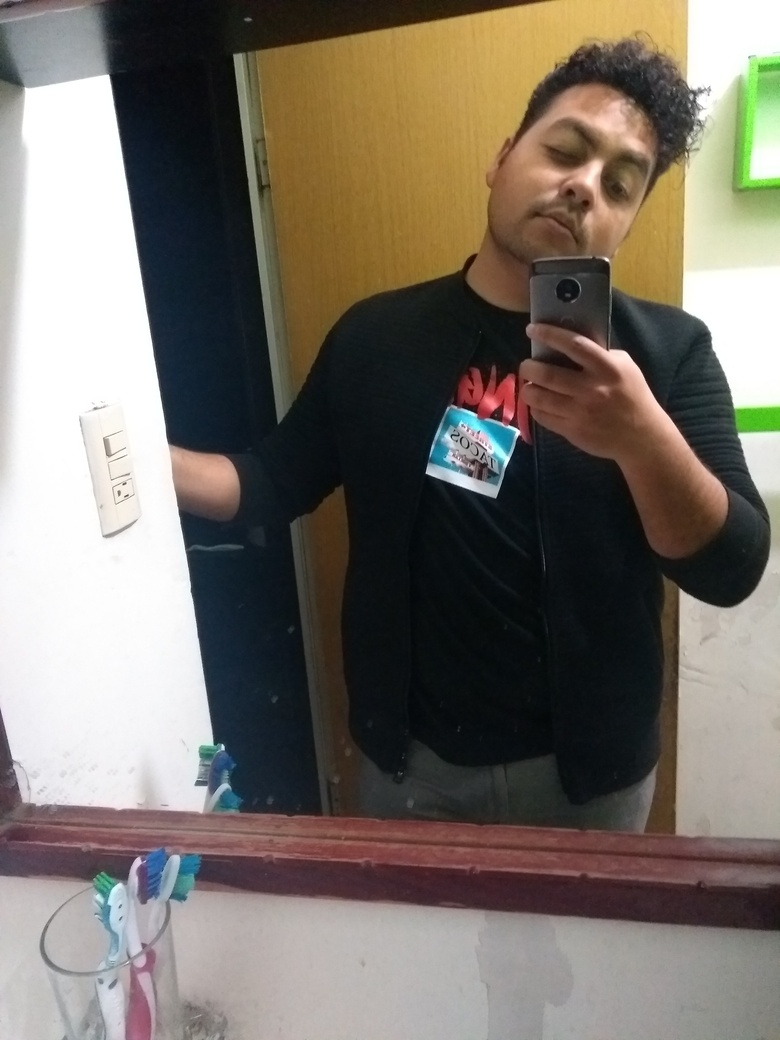Yoshi: (476, 23, 743, 341)
